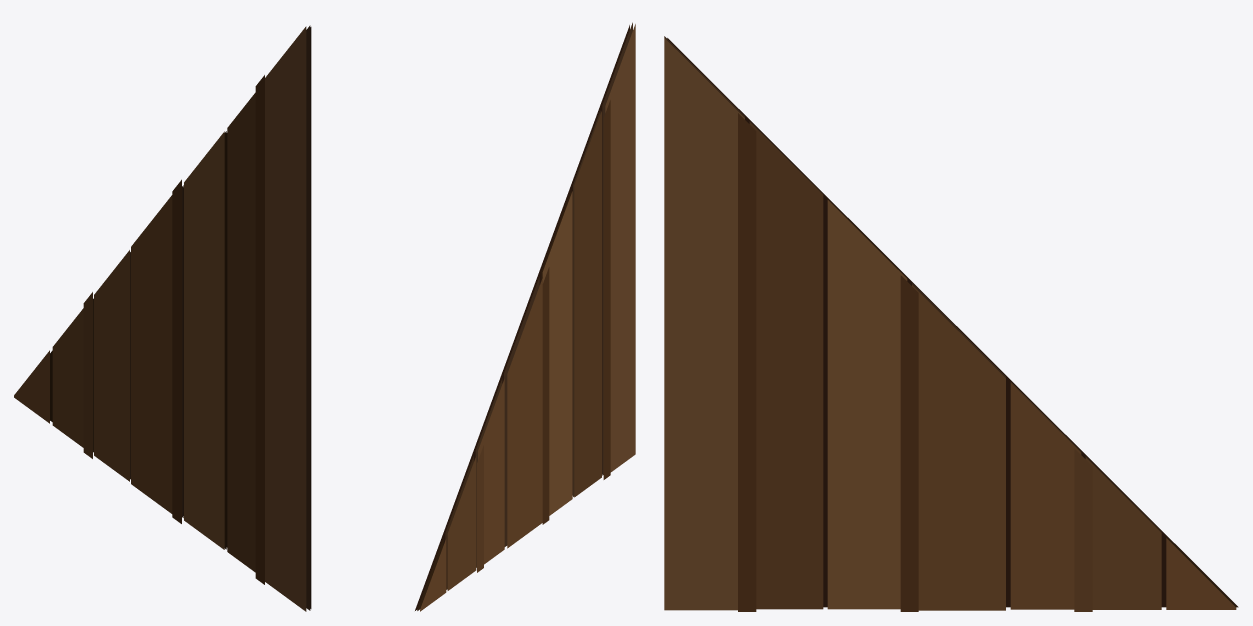
Rendered from wall-timber-gable-l-steep.glb.
3 views of the same model, side by side, from view 1: azimuth 30°, elevation 25°; view 2: azimuth 150°, elevation 25°; view 3: azimuth 270°, elevation 25° (orthographic). The views are drawn at different scales.
Visible parts, largest first — view 1: wall-timber-gable-l-steep; view 2: wall-timber-gable-l-steep; view 3: wall-timber-gable-l-steep.
Part boxes in pixels (bbox=[...]): wall-timber-gable-l-steep: bbox=[14, 25, 311, 611]; wall-timber-gable-l-steep: bbox=[415, 22, 635, 611]; wall-timber-gable-l-steep: bbox=[664, 36, 1238, 611].
Bounding box in the file's own units: 0.112 × 1.11 × 1.01.
